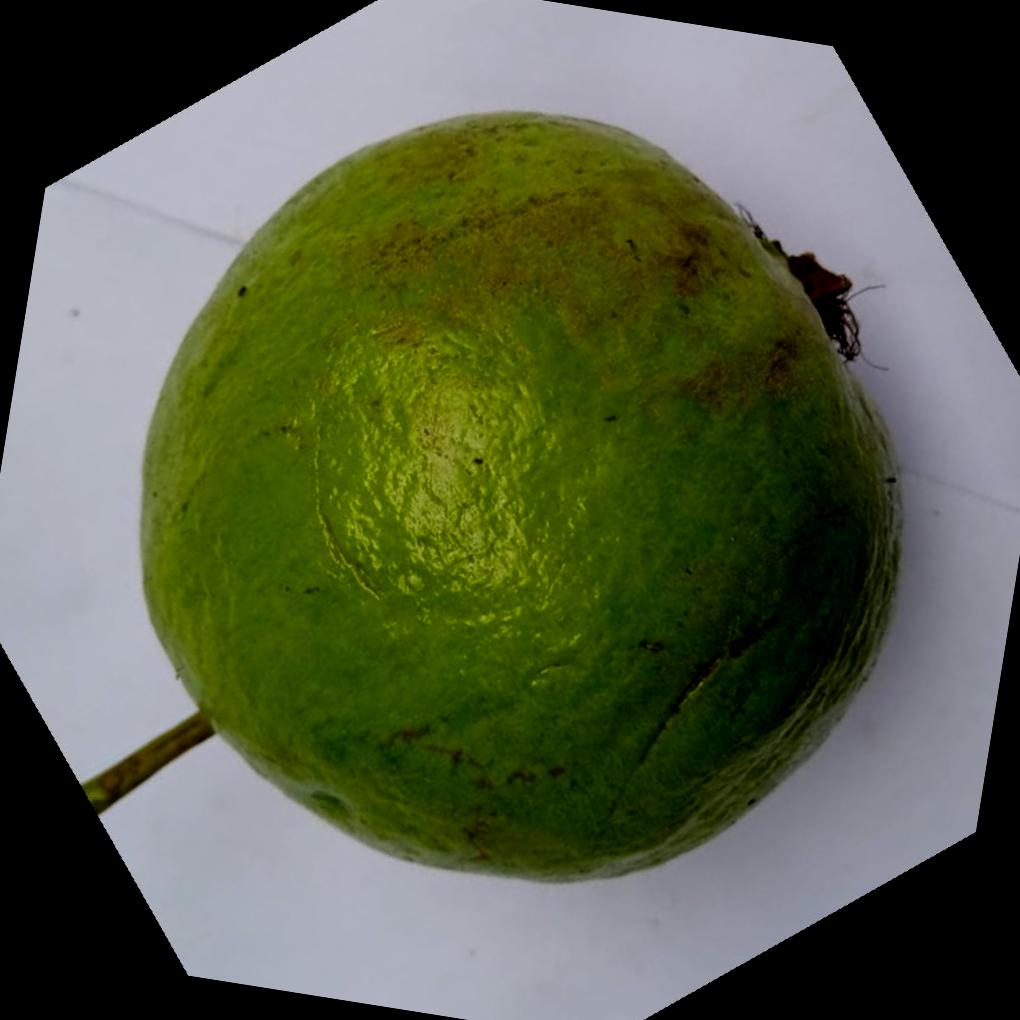FreshGuava: (139, 109, 908, 886)
